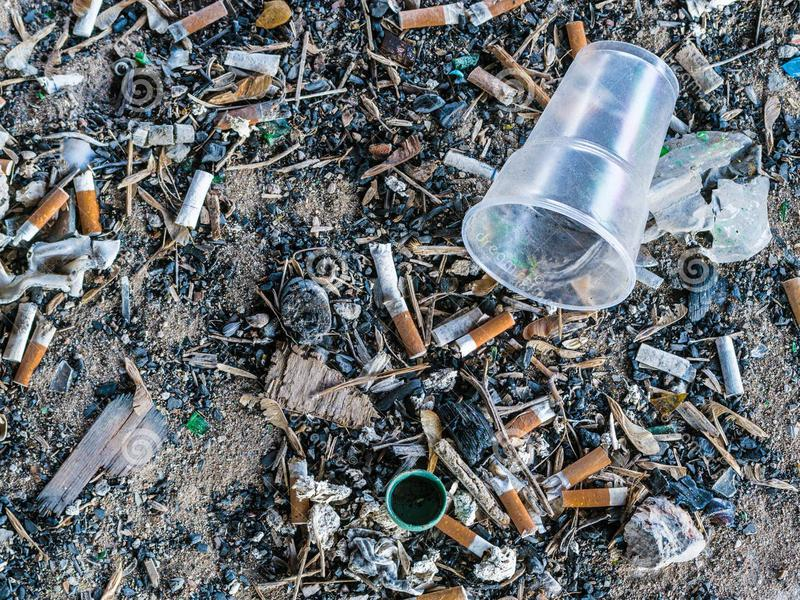burned_cigarette: (450, 309, 519, 367), (486, 466, 539, 540), (166, 162, 220, 234), (13, 184, 72, 245), (8, 318, 57, 390), (163, 1, 236, 47), (376, 301, 430, 363), (707, 329, 751, 402), (70, 166, 108, 236), (437, 514, 497, 558), (395, 1, 469, 34), (555, 484, 632, 511)
cup: (452, 37, 683, 315)
